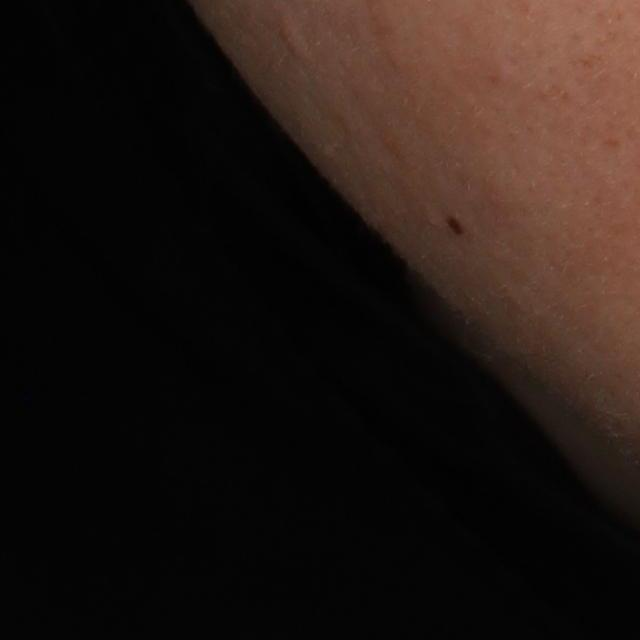comedo: (280, 24, 306, 60)
nevus: (442, 209, 469, 240)
